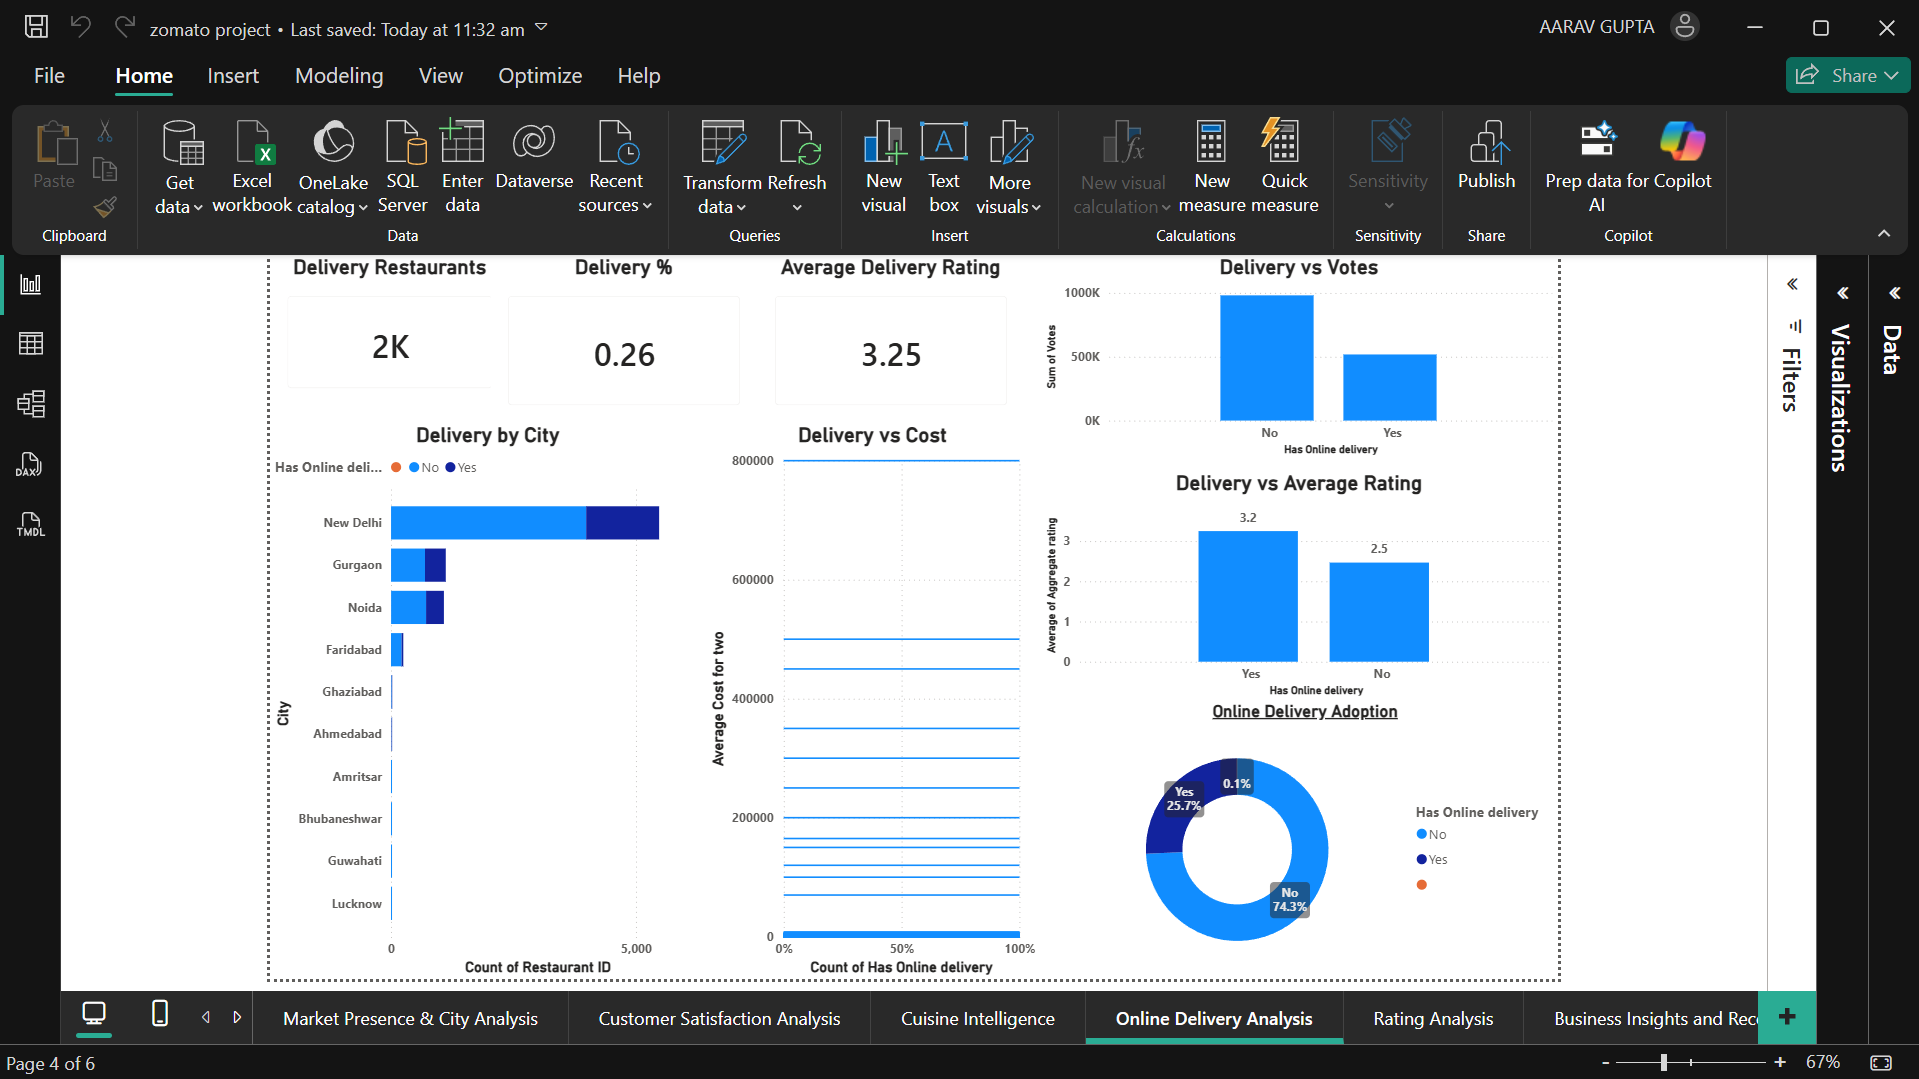

Layout of this report page (visuals, bound fields, positions):
{"tool":"powerbi","page":{"name":"Online Delivery Analysis","canvas":[1280,720],"ordinal":3},"visuals":[{"type":"donutChart","title":"Online Delivery Adoption","fields":{"Category":["zomato.Has Online delivery"],"Y":["CountNonNull(zomato.Restaurant ID)"]},"box":[778.3,443.3,501.7,276.7],"z":0},{"type":"clusteredColumnChart","title":"Delivery vs Average Rating","fields":{"Category":["zomato.Has Online delivery"],"Y":["Avg(zomato.Aggregate rating)"]},"box":[766.7,215,513.3,228.3],"z":1000},{"type":"clusteredColumnChart","title":"Delivery vs Votes","fields":{"Category":["zomato.Has Online delivery"],"Y":["Sum(zomato.Votes)"]},"box":[766.7,0,513.3,203.3],"z":2000},{"type":"hundredPercentStackedBarChart","title":"Delivery vs Cost","fields":{"Category":["zomato.Average Cost for two"],"Y":["CountNonNull(zomato.Has Online delivery)"]},"box":[433.3,166.7,333.3,553.3],"z":3000},{"type":"barChart","title":"Delivery by City","fields":{"Category":["zomato.City"],"Y":["CountNonNull(zomato.Restaurant ID)"],"Series":["zomato.Has Online delivery"]},"box":[0,166.7,433.3,553.3],"z":4000},{"type":"cardVisual","title":"Delivery Restaurants","fields":{"Data":["Cuisine Analysis.Delivery Restaurants"]},"box":[0,0,238.3,150],"z":4001},{"type":"cardVisual","title":"Delivery %","fields":{"Data":["Cuisine Analysis.Delivery %"]},"box":[220,0,265,166.7],"z":4002},{"type":"cardVisual","title":"Average Delivery Rating","fields":{"Data":["Cuisine Analysis.Avg Delivery Rating"]},"box":[485,0,265,166.7],"z":4003}]}

Visuals, with their boxes on the page's 1280x720 design canvas (x1, y1, x2, y2). These are canvas units, not pixel positions in the 1919x1079 screenshot, which may show the page scaled, cropped or inside an application window:
"Online Delivery Adoption" donutChart: {"x1": 778, "y1": 443, "x2": 1280, "y2": 720}
"Delivery vs Average Rating" clusteredColumnChart: {"x1": 767, "y1": 215, "x2": 1280, "y2": 443}
"Delivery vs Votes" clusteredColumnChart: {"x1": 767, "y1": 0, "x2": 1280, "y2": 203}
"Delivery vs Cost" hundredPercentStackedBarChart: {"x1": 433, "y1": 167, "x2": 767, "y2": 720}
"Delivery by City" barChart: {"x1": 0, "y1": 167, "x2": 433, "y2": 720}
"Delivery Restaurants" cardVisual: {"x1": 0, "y1": 0, "x2": 238, "y2": 150}
"Delivery %" cardVisual: {"x1": 220, "y1": 0, "x2": 485, "y2": 167}
"Average Delivery Rating" cardVisual: {"x1": 485, "y1": 0, "x2": 750, "y2": 167}
